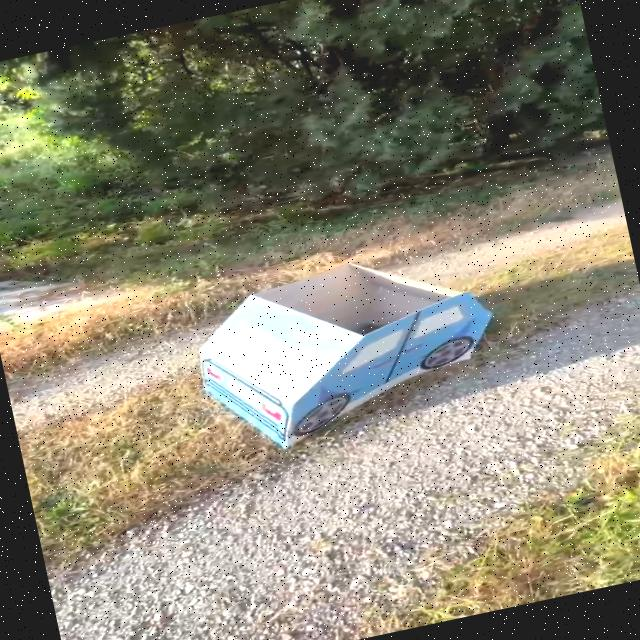blue_car: (145, 218, 535, 496)
